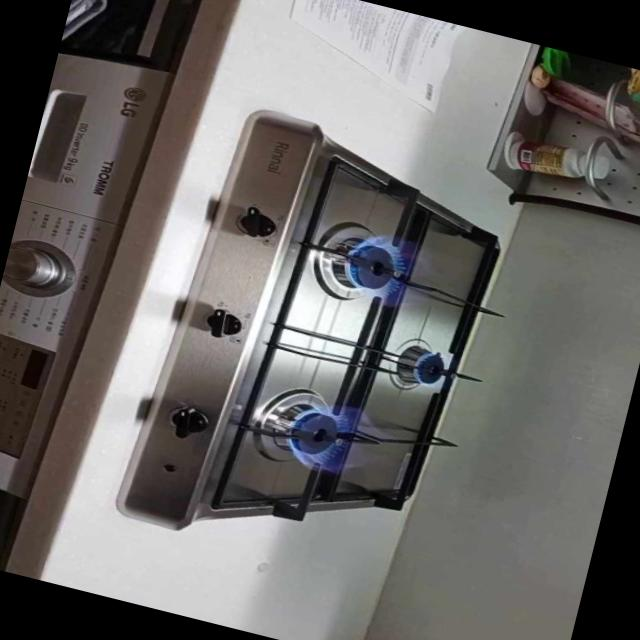knob_ON: (263, 359, 375, 507), (323, 190, 417, 320), (381, 314, 466, 414)
